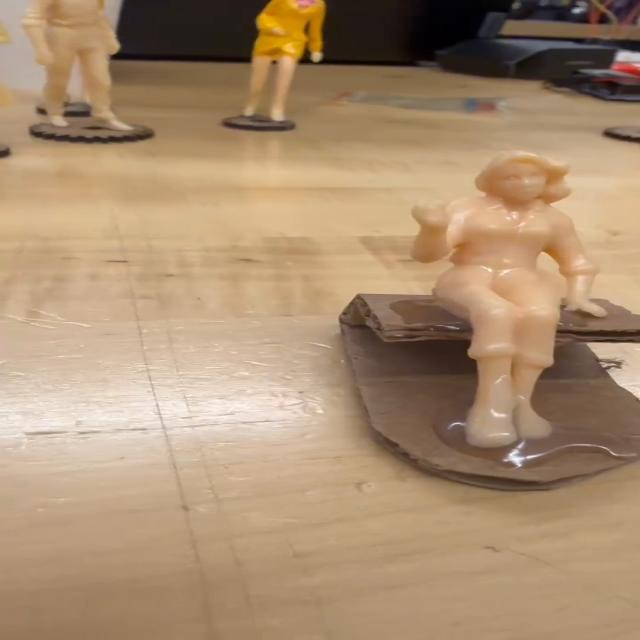Unauthorized: (400, 140, 586, 481)
